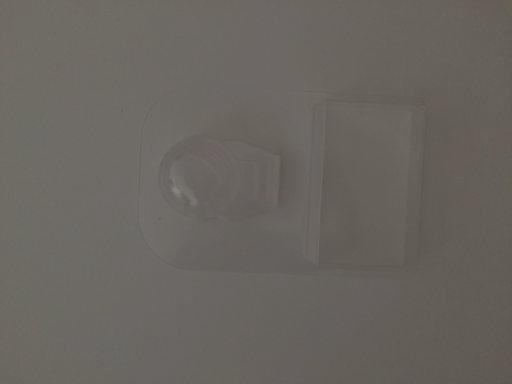plastic: (137, 86, 421, 276)
